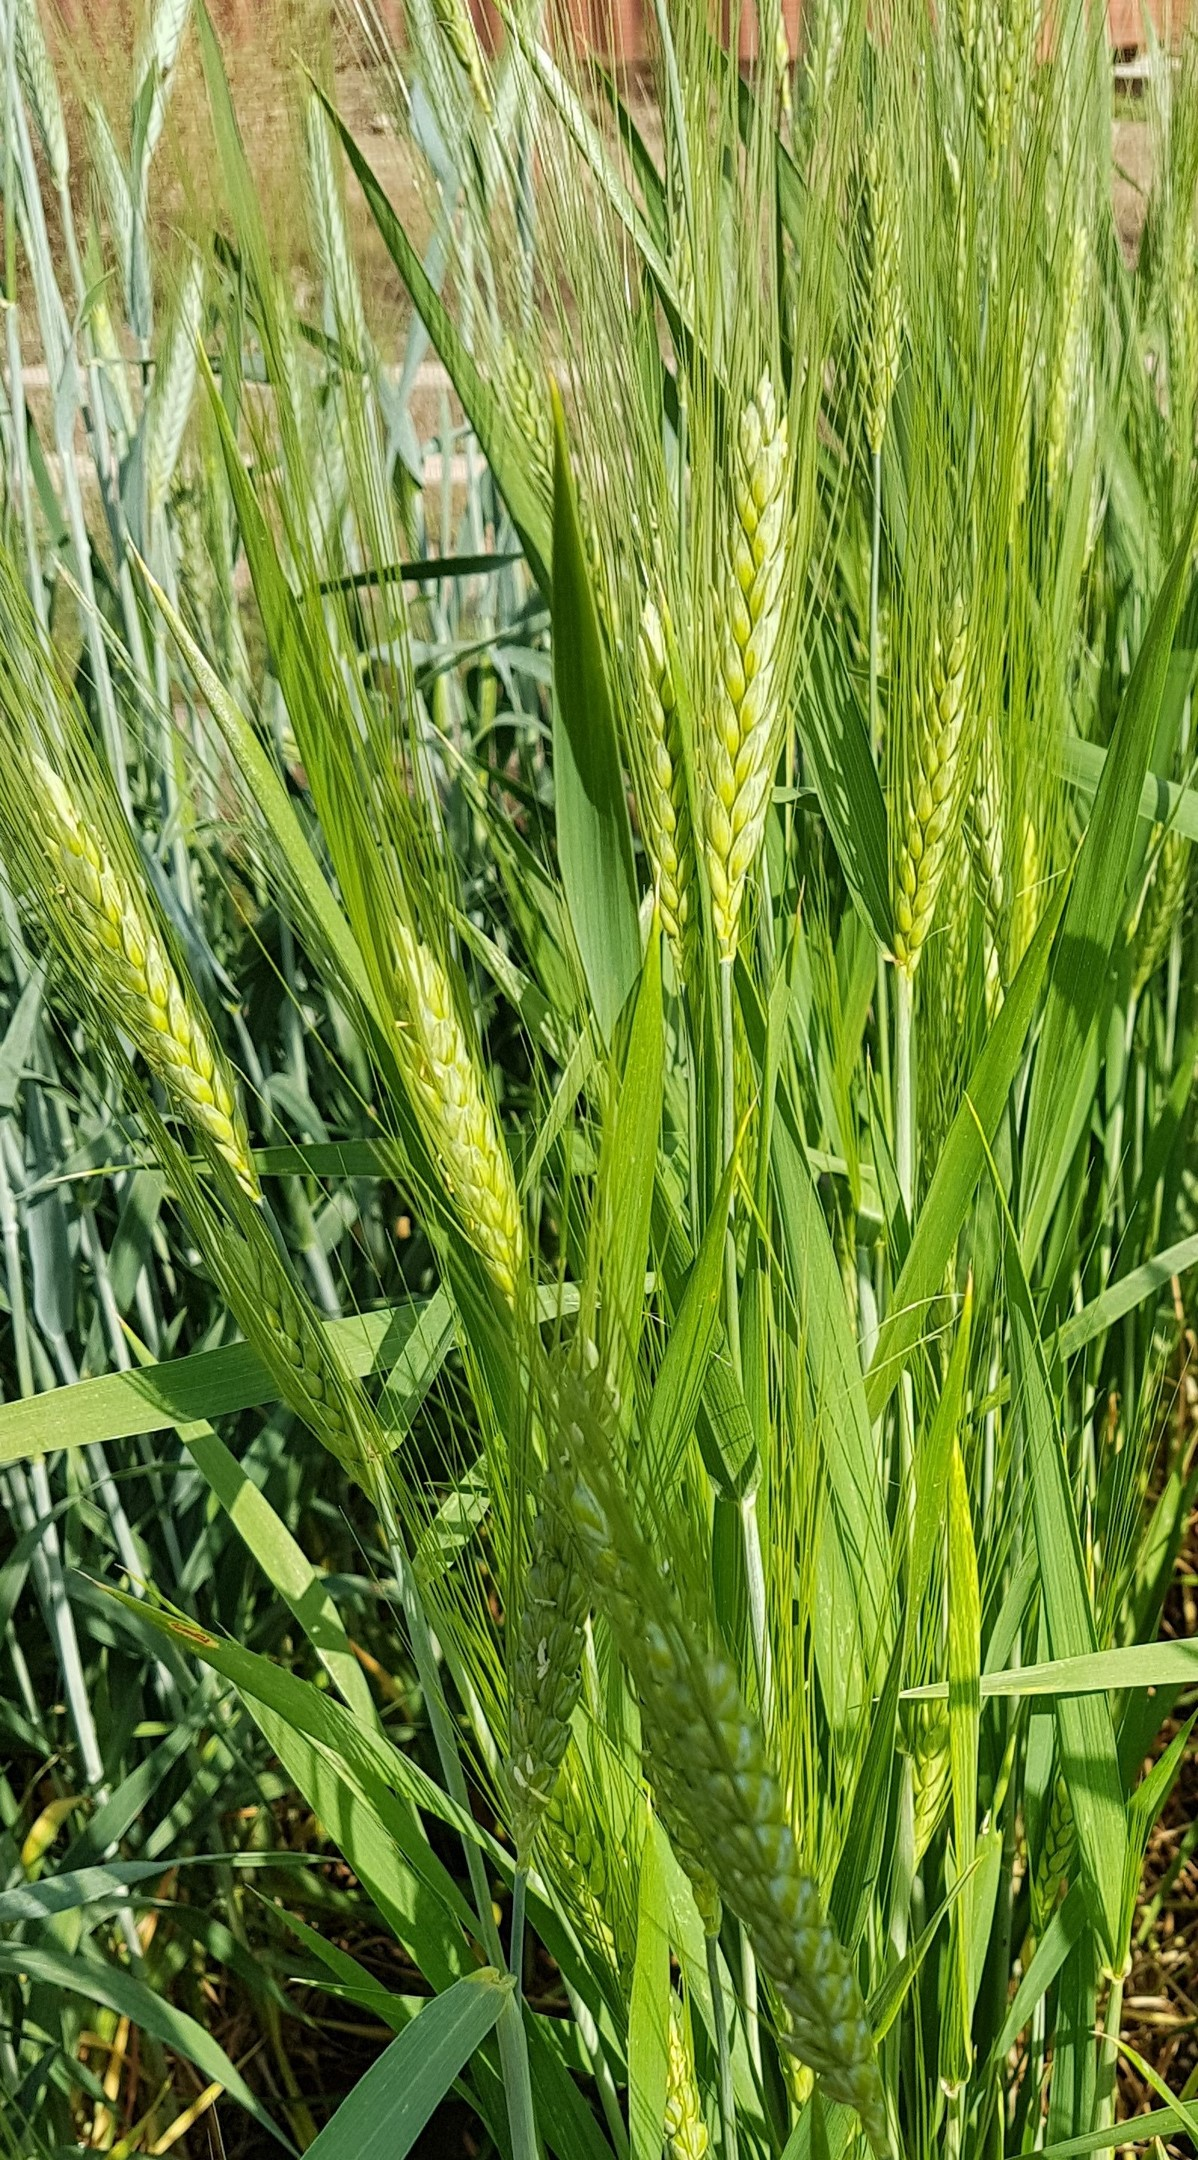Healthy Wheat: (629, 342, 1000, 987), (7, 742, 279, 1174)
